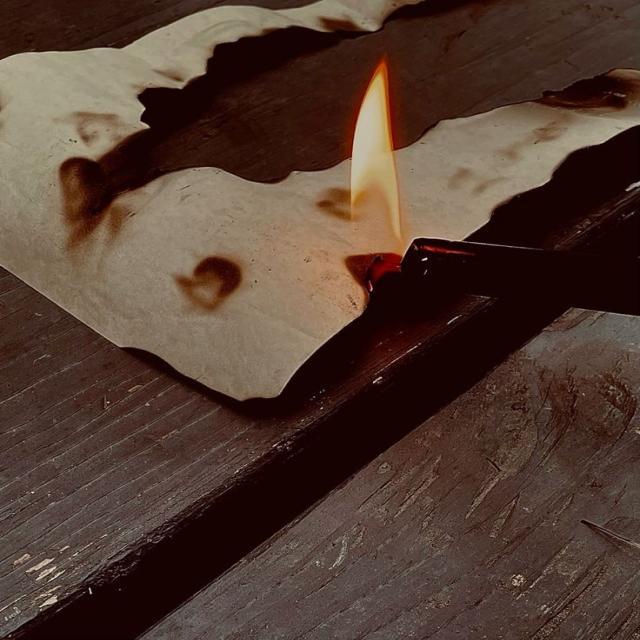fire: (347, 58, 405, 254)
